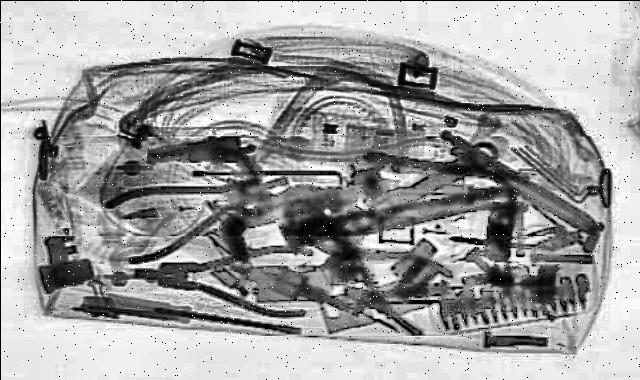Pliers: (73, 148, 323, 264), (284, 211, 502, 335), (130, 236, 322, 316)
Wrench: (291, 130, 517, 256)
